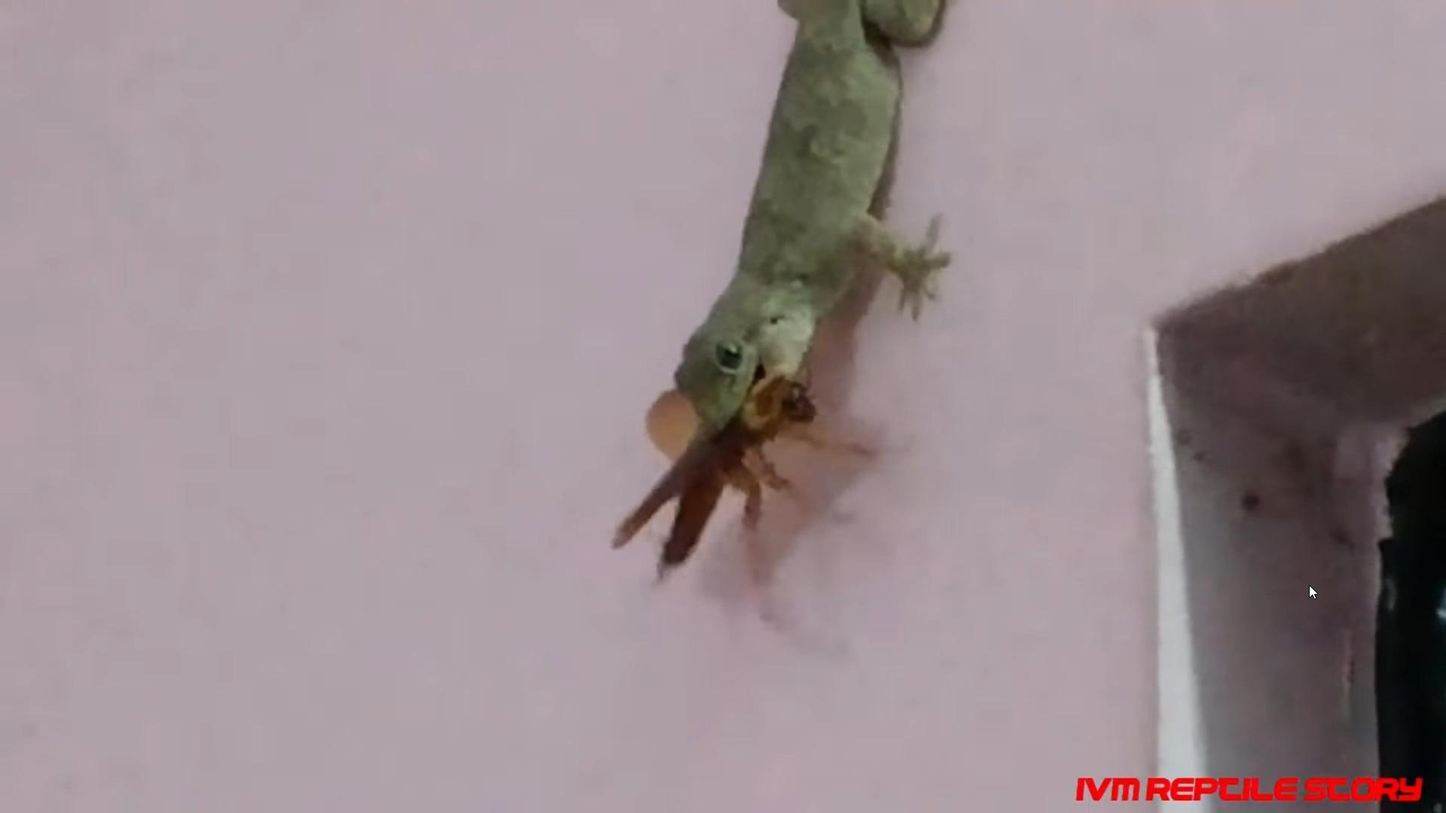cockroach: (633, 397, 822, 596)
lizard: (659, 28, 954, 437)
